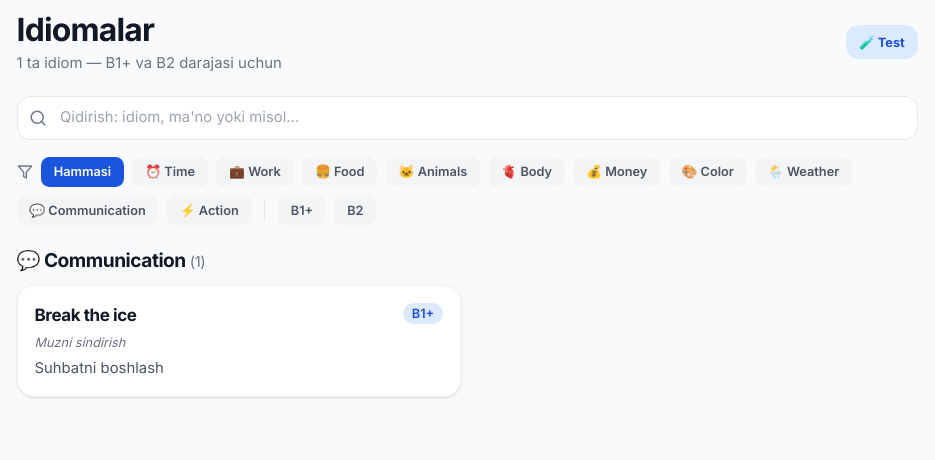
Test: Idioms › shows empty state when no matches
Type "zzzznonexistent" into the field with placeholder "Qidirish: idiom, ma'no yoki misol..." at (467, 118), box [16, 96, 918, 140]
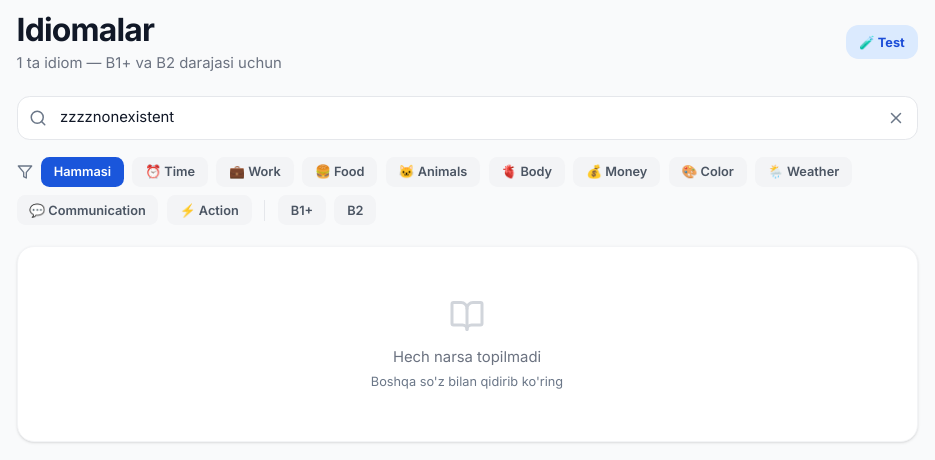
Check: the text "Hech narsa topilmadi" is shown, box [393, 348, 541, 366]
